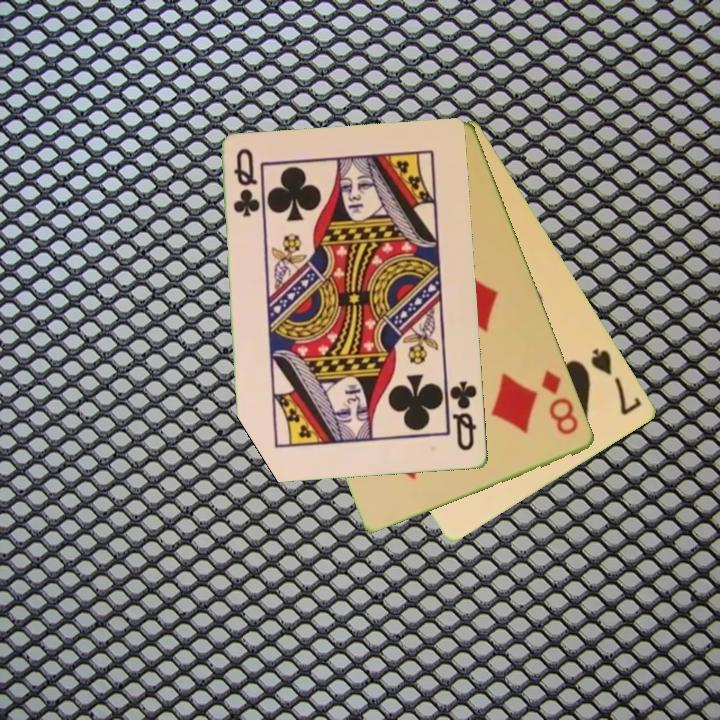7s: (587, 344, 646, 419)
8d: (538, 366, 582, 438)
Qc: (444, 376, 480, 454), (230, 145, 261, 220)
